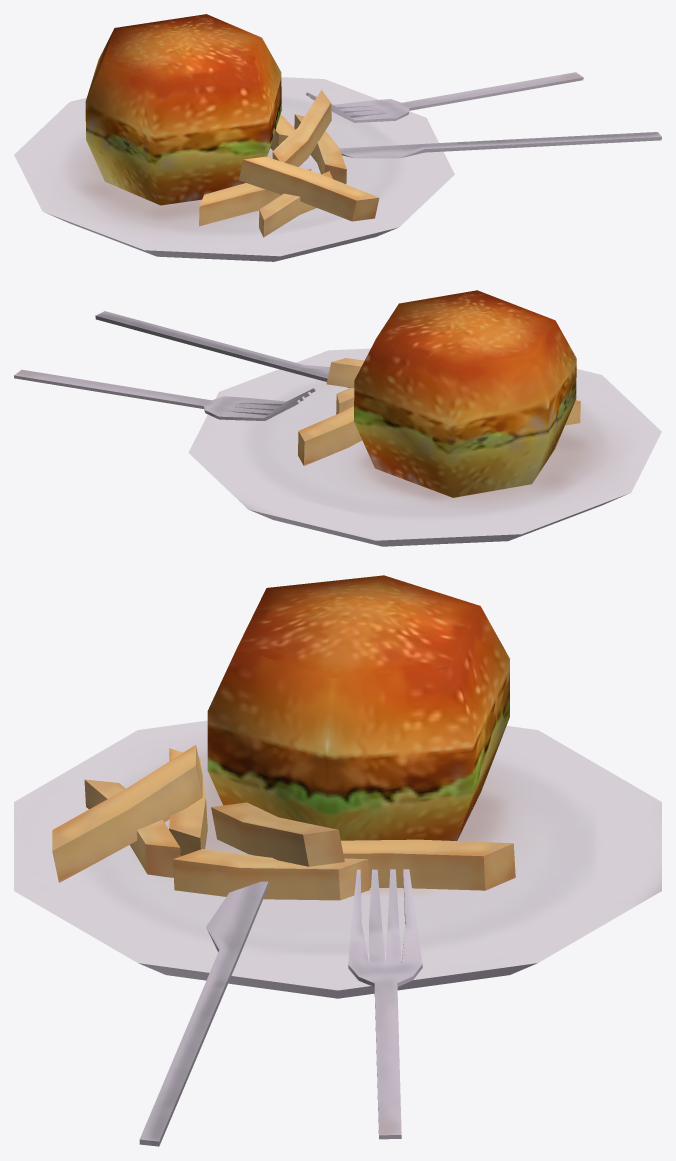
The model's file is KaFeiTing_01_hanbao_01.FBX.
The picture shows the model from 3 angles, top to bottom: view 1: azimuth 30°, elevation 25°; view 2: azimuth 150°, elevation 25°; view 3: azimuth 270°, elevation 25°; orthographic projection. The views are drawn at different scales.
Parts seen in each view (by area): view 1: KaFeiTing_01_hanbao_01; view 2: KaFeiTing_01_hanbao_01; view 3: KaFeiTing_01_hanbao_01.
Part boxes in pixels (x1,y1,x2,y2): KaFeiTing_01_hanbao_01: (14,14,661,261); KaFeiTing_01_hanbao_01: (14,290,661,546); KaFeiTing_01_hanbao_01: (14,575,661,1146).
Bounding box in the file's own units: 186 × 49.02 × 122.
